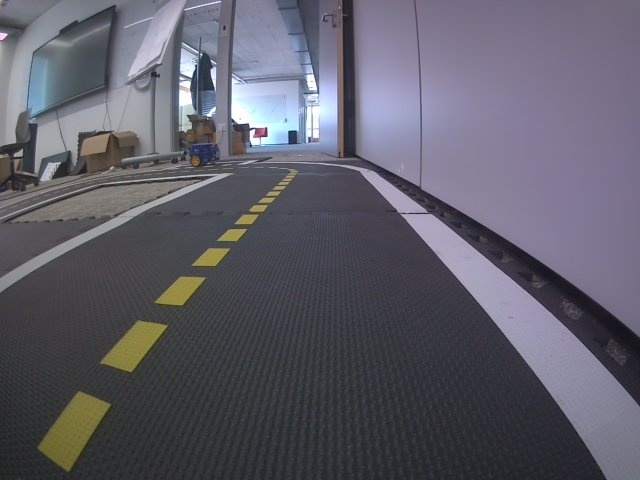Bot: (189, 144, 220, 166)
occupiedSlot: (164, 159, 257, 171)
